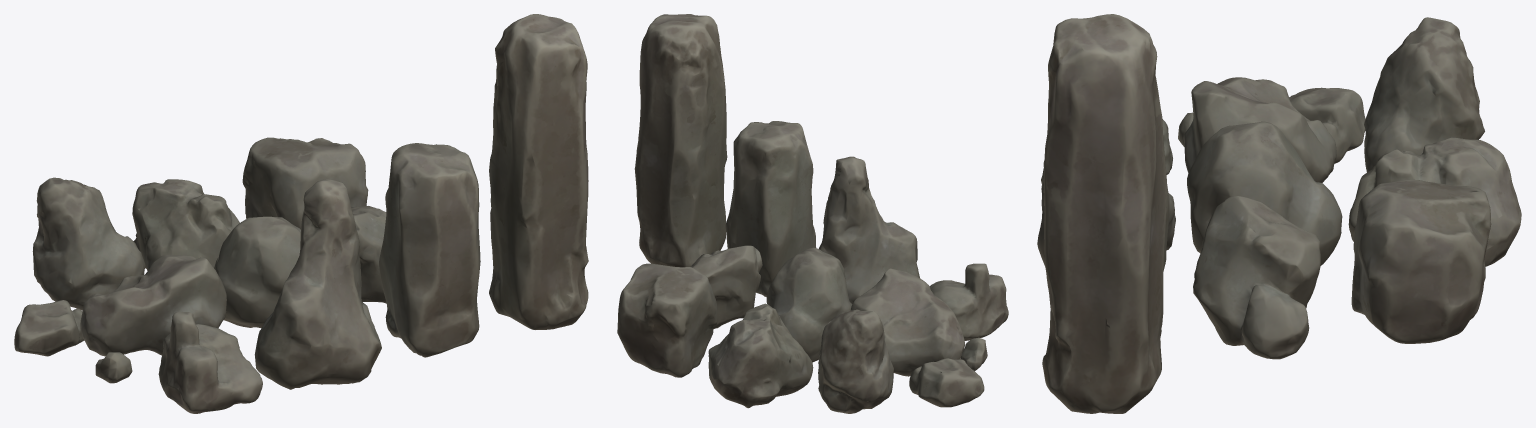
The model's file is rockslow.fbx.
The picture shows the model from 3 angles, left to right: view 1: azimuth 30°, elevation 25°; view 2: azimuth 150°, elevation 25°; view 3: azimuth 270°, elevation 25°; orthographic projection. The views are drawn at different scales.
Parts seen in each view (by area): view 1: rocklow.001, rocklow.002, rocklow.003, rocklow.007, rocklow.010, rocklow.008, rocklow.004, rocklow.006, rocklow.009, rocklow.005; view 2: rocklow.001, rocklow.002, rocklow.007, rocklow.008, rocklow.003, rocklow.009, rocklow.010, rocklow.006, rocklow.004, rocklow.005; view 3: rocklow.001, rocklow.008, rocklow.005, rocklow.010, rocklow.006, rocklow.007, rocklow.009, rocklow.003.
Part boxes in pixels (x1,y1,x2,y2): rocklow.001: (489, 14, 588, 329); rocklow.002: (379, 143, 480, 357); rocklow.003: (254, 179, 381, 389); rocklow.007: (14, 255, 226, 383); rocklow.010: (32, 177, 145, 310); rocklow.008: (242, 137, 368, 229); rocklow.004: (158, 311, 262, 413); rocklow.006: (214, 216, 300, 328); rocklow.009: (132, 179, 239, 270); rocklow.005: (351, 206, 386, 303); rocklow.001: (634, 14, 727, 267); rocklow.002: (725, 121, 816, 296); rocklow.007: (850, 268, 987, 407); rocklow.008: (617, 263, 717, 377); rocklow.003: (819, 156, 920, 303); rocklow.009: (708, 303, 813, 408); rocklow.010: (818, 309, 893, 413); rocklow.006: (766, 247, 852, 362); rocklow.004: (929, 263, 1008, 340); rocklow.005: (691, 245, 762, 329); rocklow.001: (1042, 14, 1167, 413); rocklow.008: (1351, 179, 1491, 343); rocklow.005: (1193, 196, 1320, 359); rocklow.010: (1364, 17, 1484, 172); rocklow.006: (1187, 121, 1342, 265); rocklow.007: (1178, 77, 1365, 182); rocklow.009: (1348, 137, 1521, 266); rocklow.003: (1037, 179, 1175, 266).
Size of the model in its own units: 449 by 268 by 309.
1 material, 1 textured.
